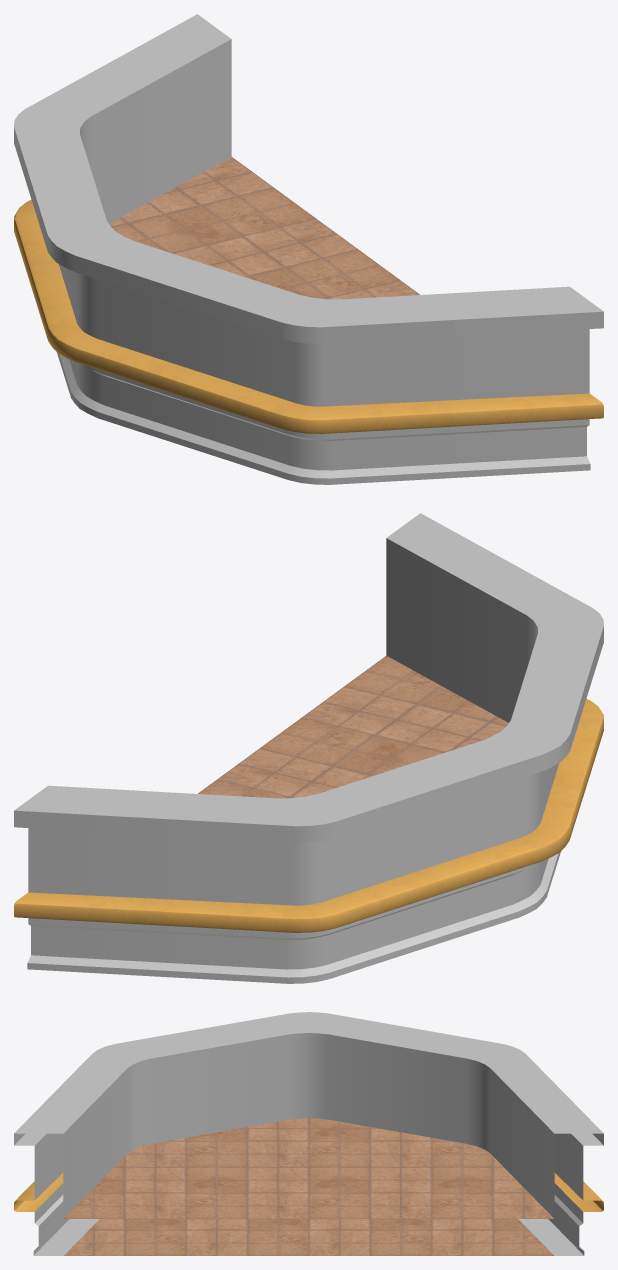
File: SM_Beam_03_Circle.fbx
The picture shows the model from 3 angles, top to bottom: view 1: azimuth 30°, elevation 25°; view 2: azimuth 150°, elevation 25°; view 3: azimuth 270°, elevation 25°; orthographic projection. The views are drawn at different scales.
Visible parts, largest first — view 1: SM_Beam_03_Circle_LOD0; view 2: SM_Beam_03_Circle_LOD0; view 3: SM_Beam_03_Circle_LOD0.
Boxes of the visible parts, box(x1,y1,x2,y2) form: SM_Beam_03_Circle_LOD0: box(14, 14, 603, 484); SM_Beam_03_Circle_LOD0: box(14, 513, 603, 983); SM_Beam_03_Circle_LOD0: box(14, 1012, 603, 1255).
Bounding box in the file's own units: 703 × 1442 × 330.
